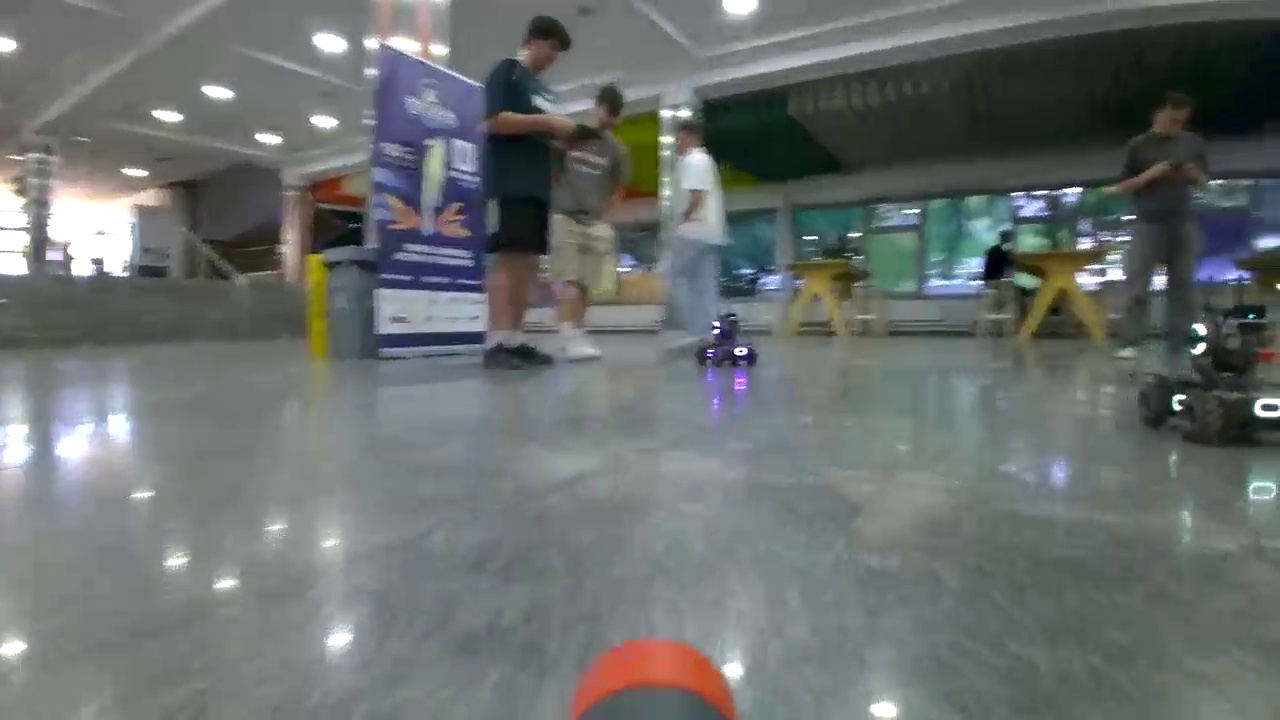robot: (1139, 303, 1280, 436), (694, 316, 758, 365)
